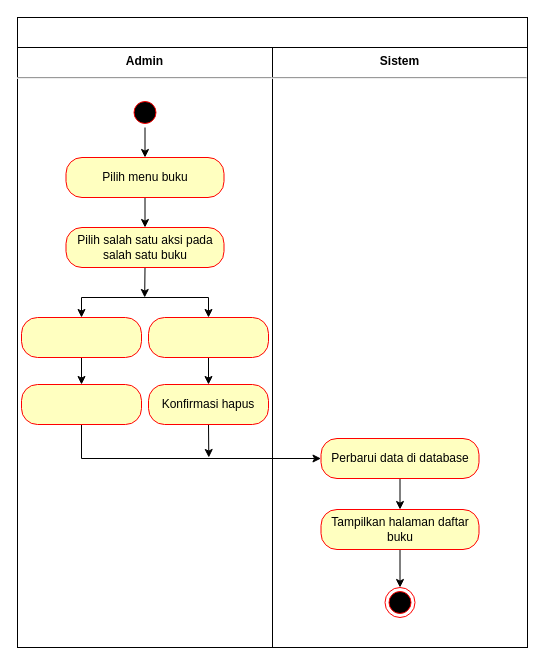
This 545x665 diagram has some shape labels left out. Here are the shapes that lost their labels. From the top down, the centre of each, then its label:
the point at 272,32: 5. ACTIVITY DIAGRAM HAPUS & EDIT BUKU
the point at 81,337: Ubah
the point at 208,337: Hapus
the point at 81,404: Simpan perubahan
